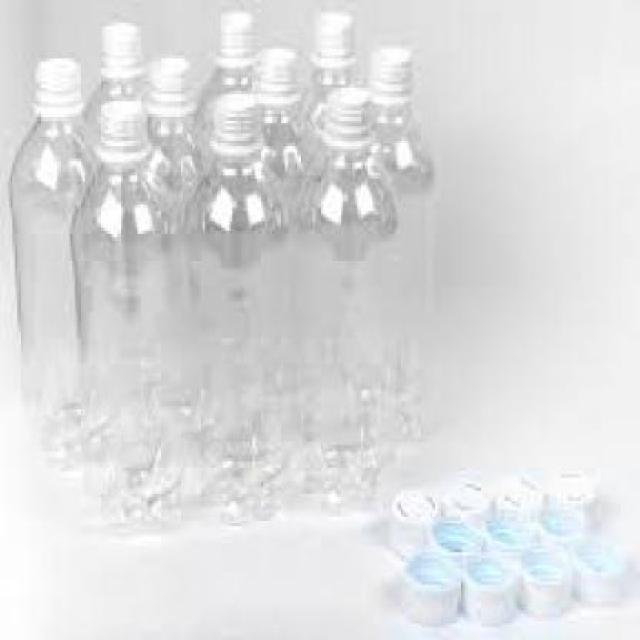PLASTIC: (72, 98, 196, 519), (292, 82, 400, 503), (200, 88, 295, 520), (13, 55, 98, 468), (362, 42, 433, 440), (138, 52, 210, 212), (245, 49, 318, 202), (82, 20, 153, 168), (189, 6, 260, 149), (294, 13, 366, 145), (462, 549, 522, 626), (542, 456, 601, 532), (405, 543, 463, 620), (574, 536, 634, 601), (522, 539, 578, 607), (496, 465, 544, 532), (395, 485, 442, 552), (446, 468, 494, 532)
